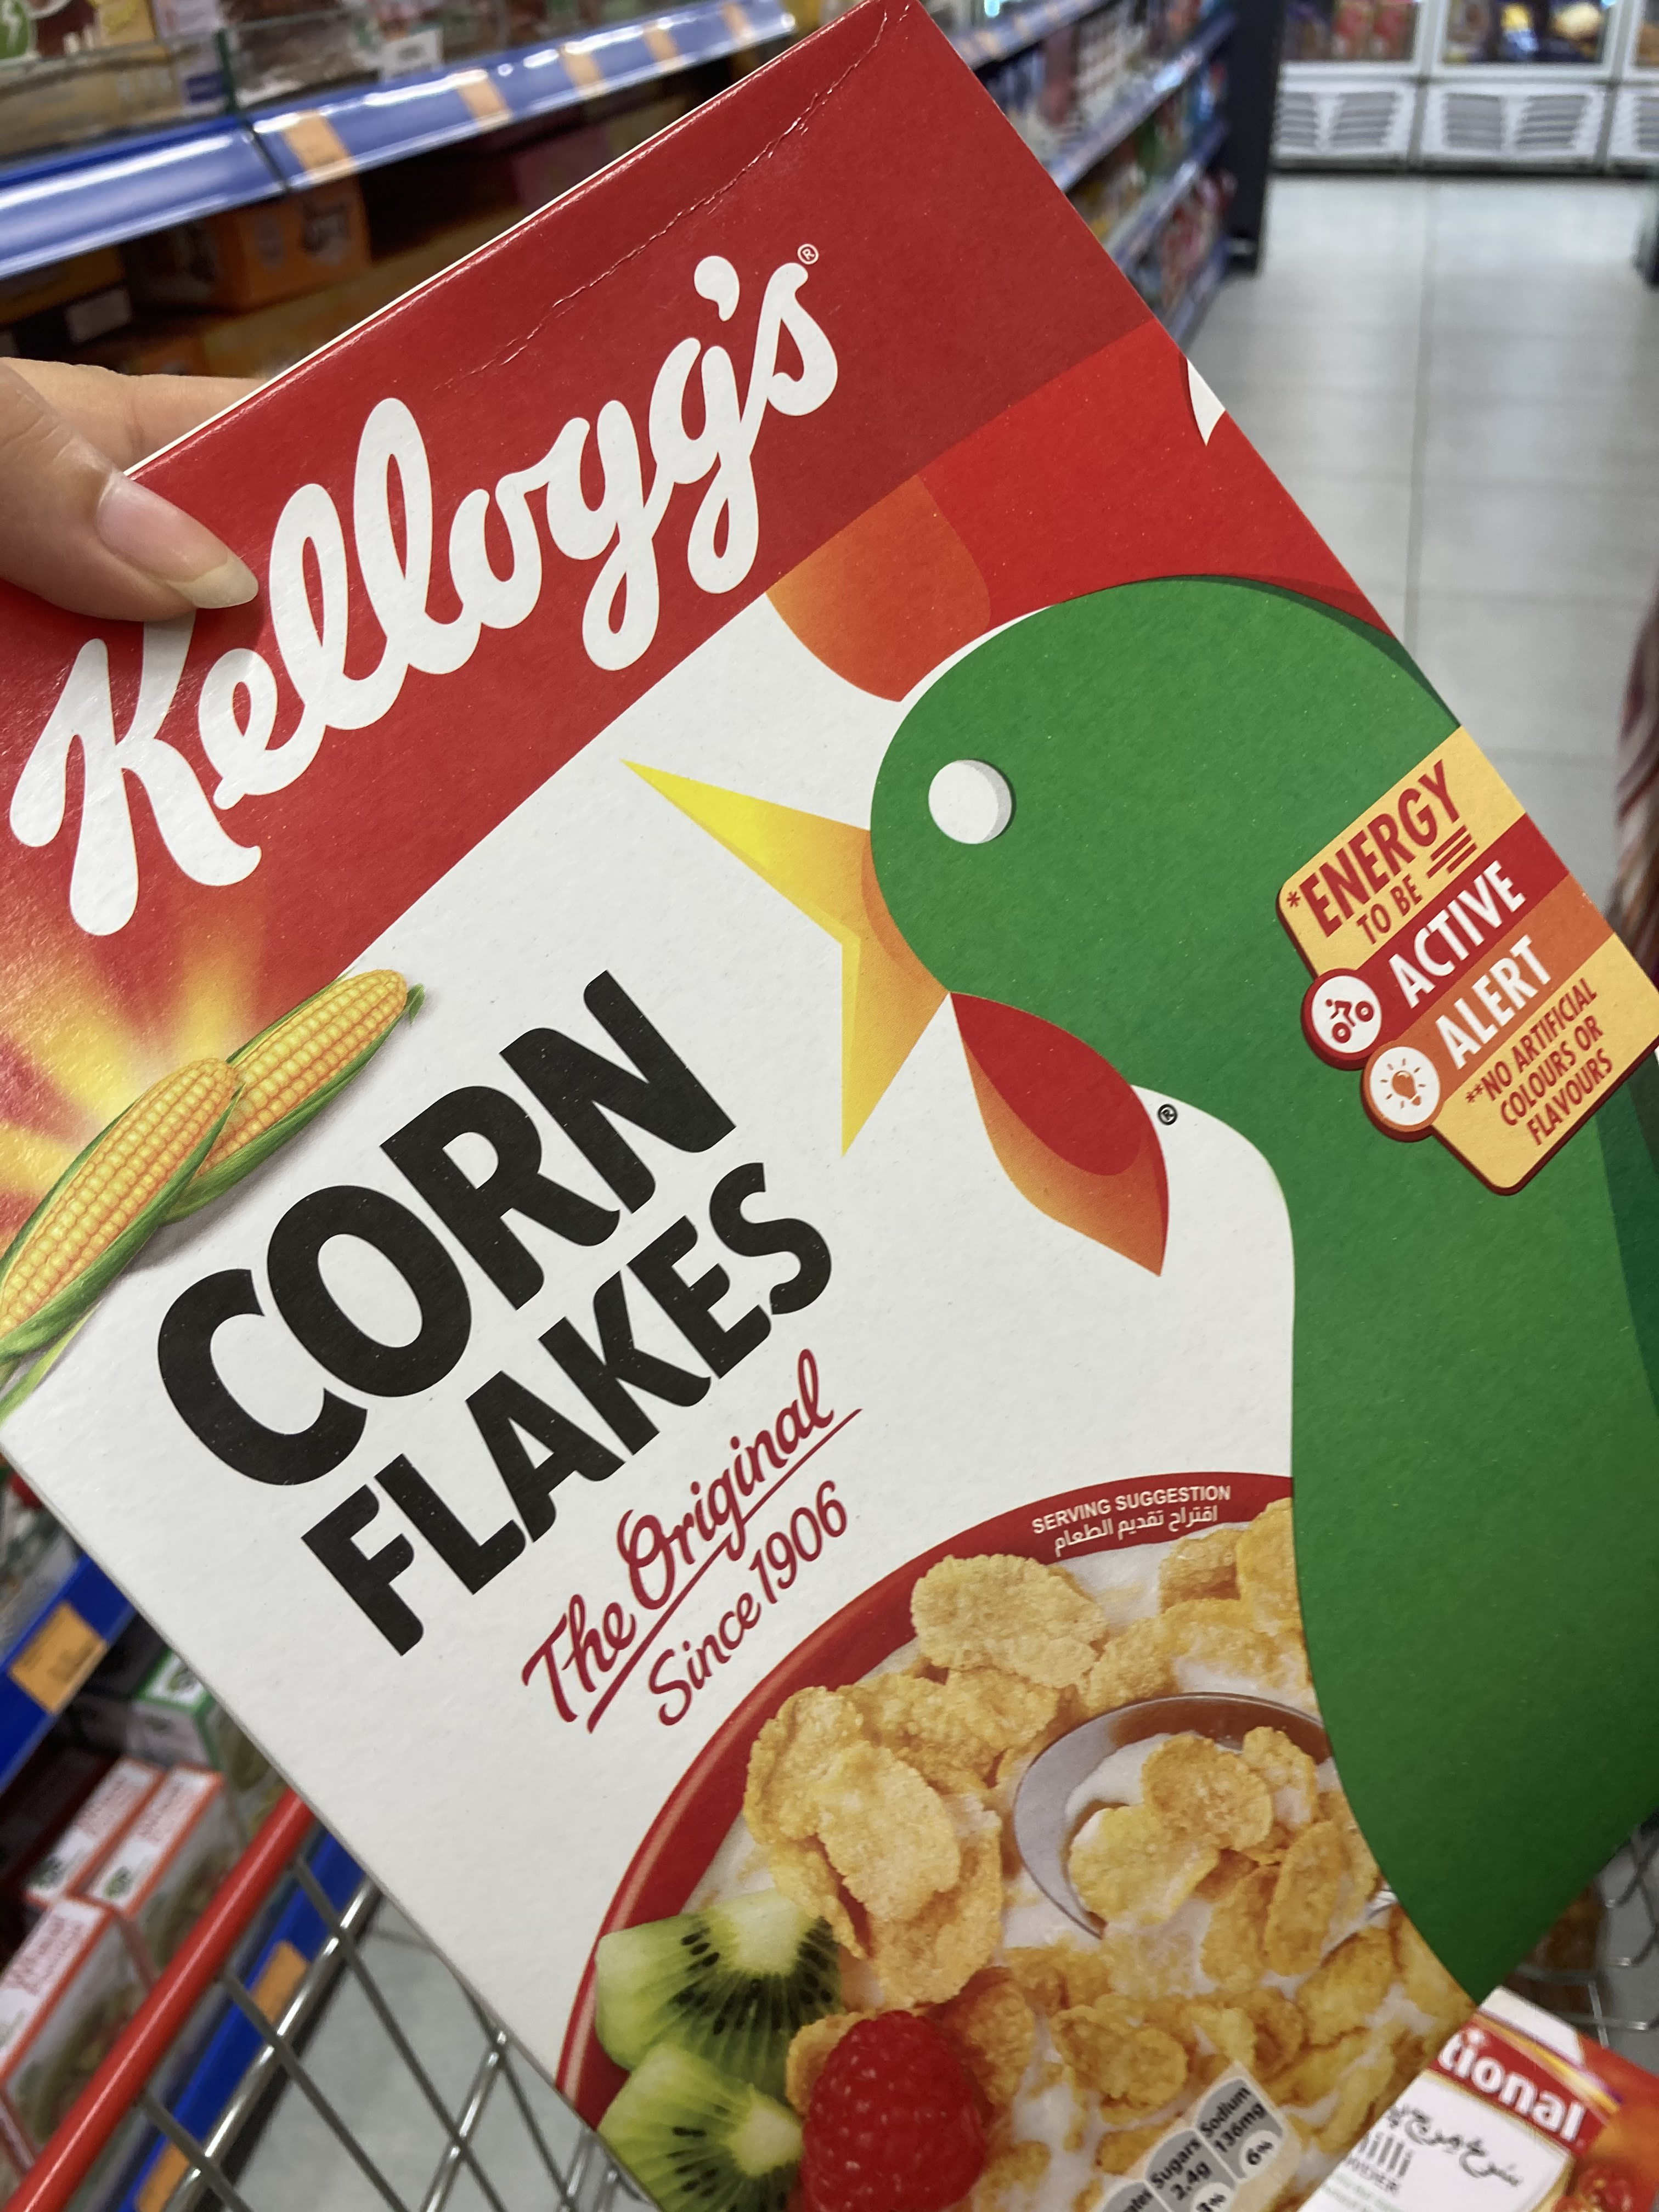Kellogg's Corn Flakes: (2, 12, 1659, 2212)
